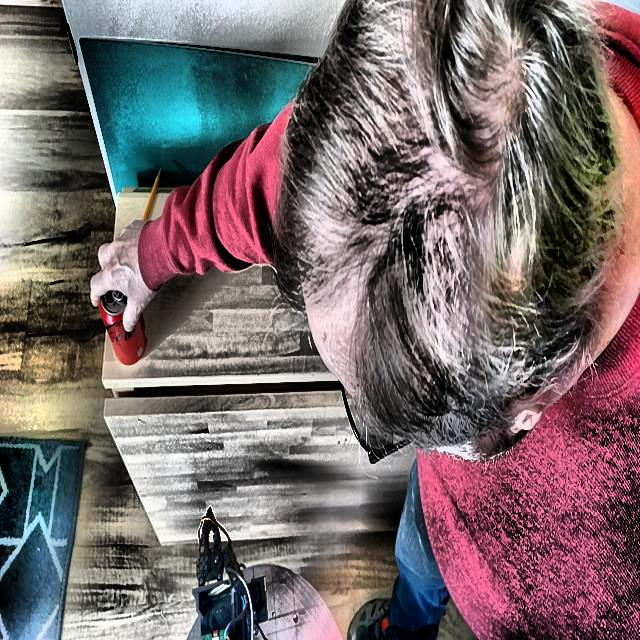CokeZero-can: (96, 280, 149, 368)
